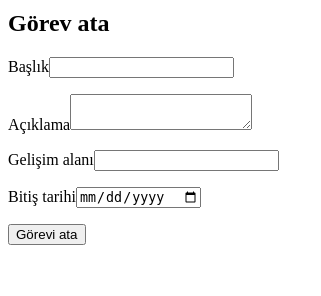
Scenario: AssignTaskForm › shows an error and sends nothing when Bitiş tarihi is empty (FR-M4-02)
The width and height of the screenshot is (321, 296).
Step 1. Type "Draw a family picture" into the field labelled "Başlık" → (141, 67), box [49,57,234,78]
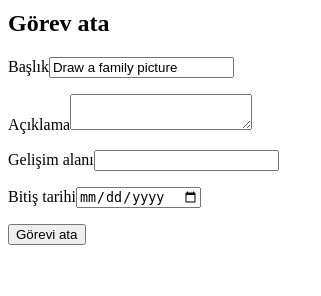
Step 2. Type "Use at least three colours." into the text box labelled "Açıklama" → (161, 112), box [70,94,252,130]
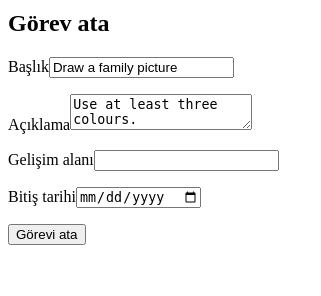
Step 3. Type "Motor" into the field labelled "Gelişim alanı" → (186, 160), box [94,150,279,171]
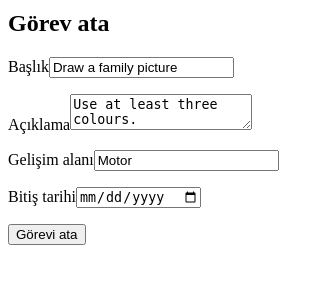
Step 4. Click the button "Görevi ata" → (47, 235), box [8,224,86,245]
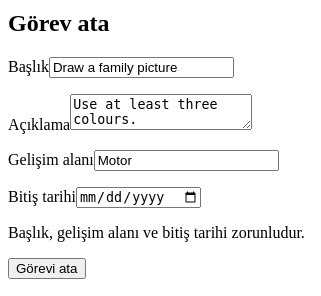
Expected: the message reads "Başlık, gelişim alanı ve bitiş tarihi zorunludur.", [8,224,305,241]
